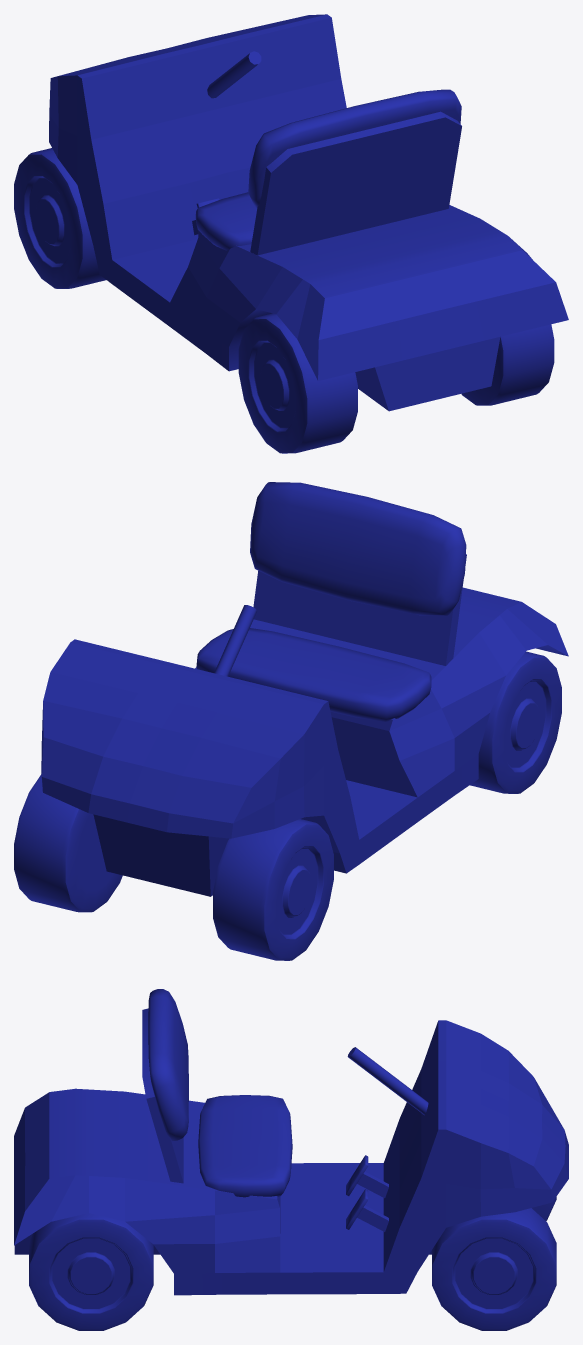
The model's file is GolfCart_NoTop_v001.FBX.
3 views of the same model, one above another, from view 1: azimuth 30°, elevation 25°; view 2: azimuth 150°, elevation 25°; view 3: azimuth 270°, elevation 25° (orthographic). The views are drawn at different scales.
Visible parts, largest first — view 1: Chassis, Box004, Tyre002, Tyre001, Box002, Cushion01, Tyre003, Seat, Cylinder001; view 2: Chassis, Cushion01, Tyre001, Seat, Tyre004, Box004, Tyre002, Box003, Cylinder001; view 3: Chassis, Tyre004, Tyre003, Seat, Cushion01, Box004, Cylinder001, Pedal001, Pedal.
Boxes of the visible parts, x1,y1,x2,y2 form: Chassis: (49,14,568,380); Box004: (250,111,461,255); Tyre002: (238,313,357,453); Tyre001: (14,148,105,288); Box002: (355,337,500,411); Cushion01: (248,89,461,208); Tyre003: (461,324,554,405); Seat: (195,192,256,250); Cylinder001: (207,51,261,98); Chassis: (41,587,568,873); Cushion01: (250,482,466,615); Tyre001: (213,819,333,960); Seat: (196,628,431,721); Tyre004: (14,774,122,912); Box004: (253,554,466,665); Tyre002: (470,651,561,793); Box003: (93,814,228,896); Cylinder001: (214,605,256,676); Chassis: (14,1020,568,1295); Tyre004: (432,1208,556,1330); Tyre003: (29,1213,153,1330); Seat: (198,1095,292,1197); Cushion01: (148,989,188,1140); Box004: (142,1008,183,1183); Cylinder001: (347,1047,428,1115); Pedal001: (346,1189,388,1231); Pedal: (346,1155,388,1198).
Bounding box in the file's own units: 32.67 × 34.99 × 69.02.
